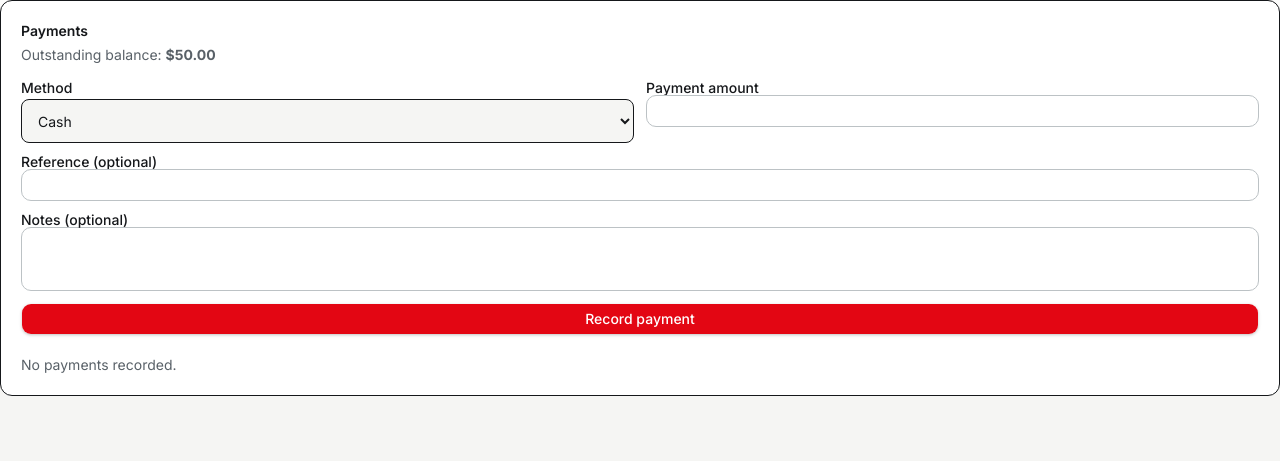
it: PaymentPanel › keeps entered values and the client request id when the action returns a stale error
Type "20.25" into the number field labelled "Payment amount" at (952, 111), box [646,95,1259,127]
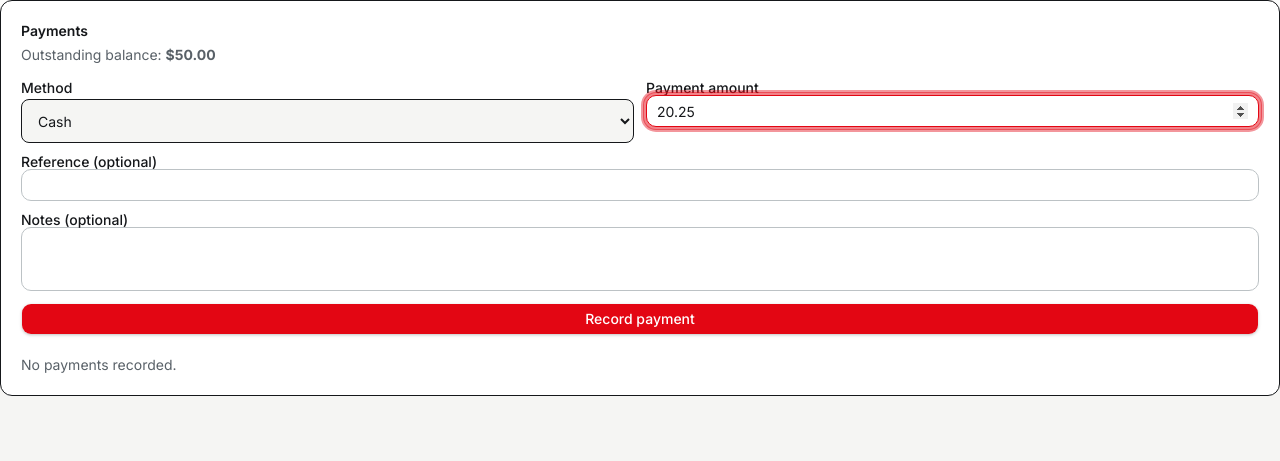
Click the button "Record payment" at (640, 319), box [21,303,1259,335]
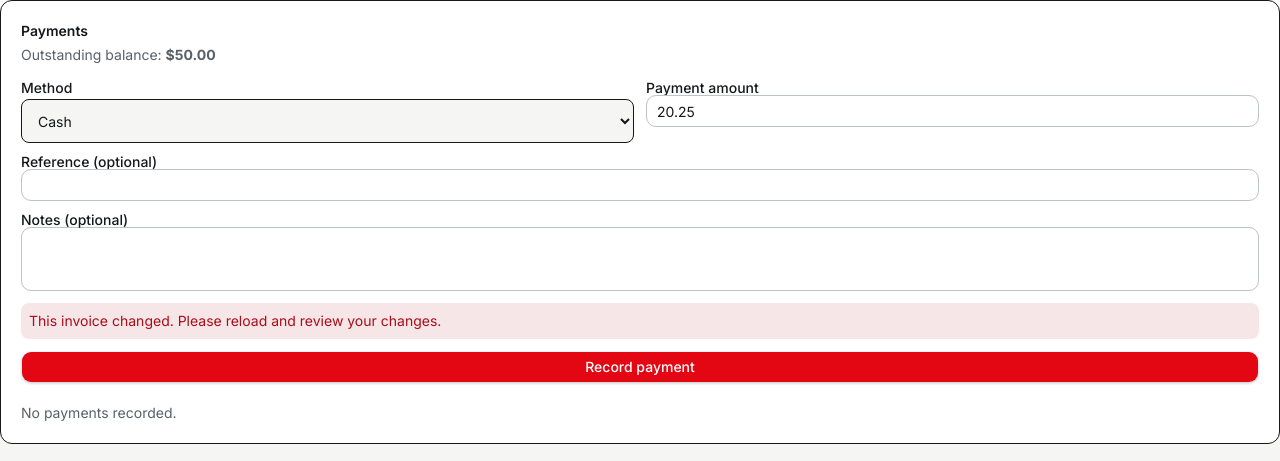
Expected: the message shows "reload", [29,312,441,329]
